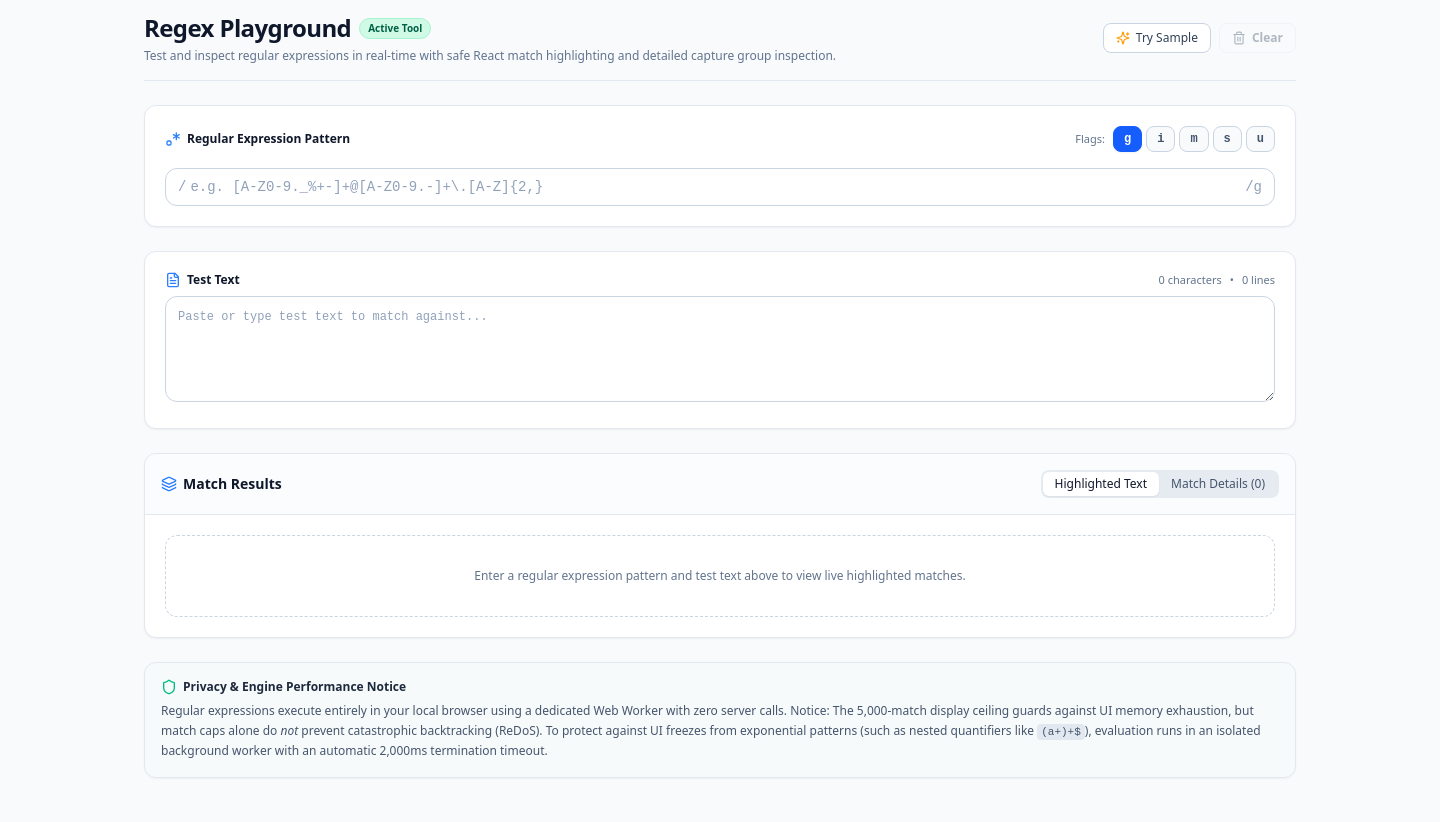
Test: RegexPlayground Component › displays descriptive error when invalid regex pattern is provided and dismisses via Clear Pattern button
The width and height of the screenshot is (1440, 822).
Type "some test text" into the text box with placeholder "Paste or type test text to match against..." at (720, 349), box [165,296,1275,402]
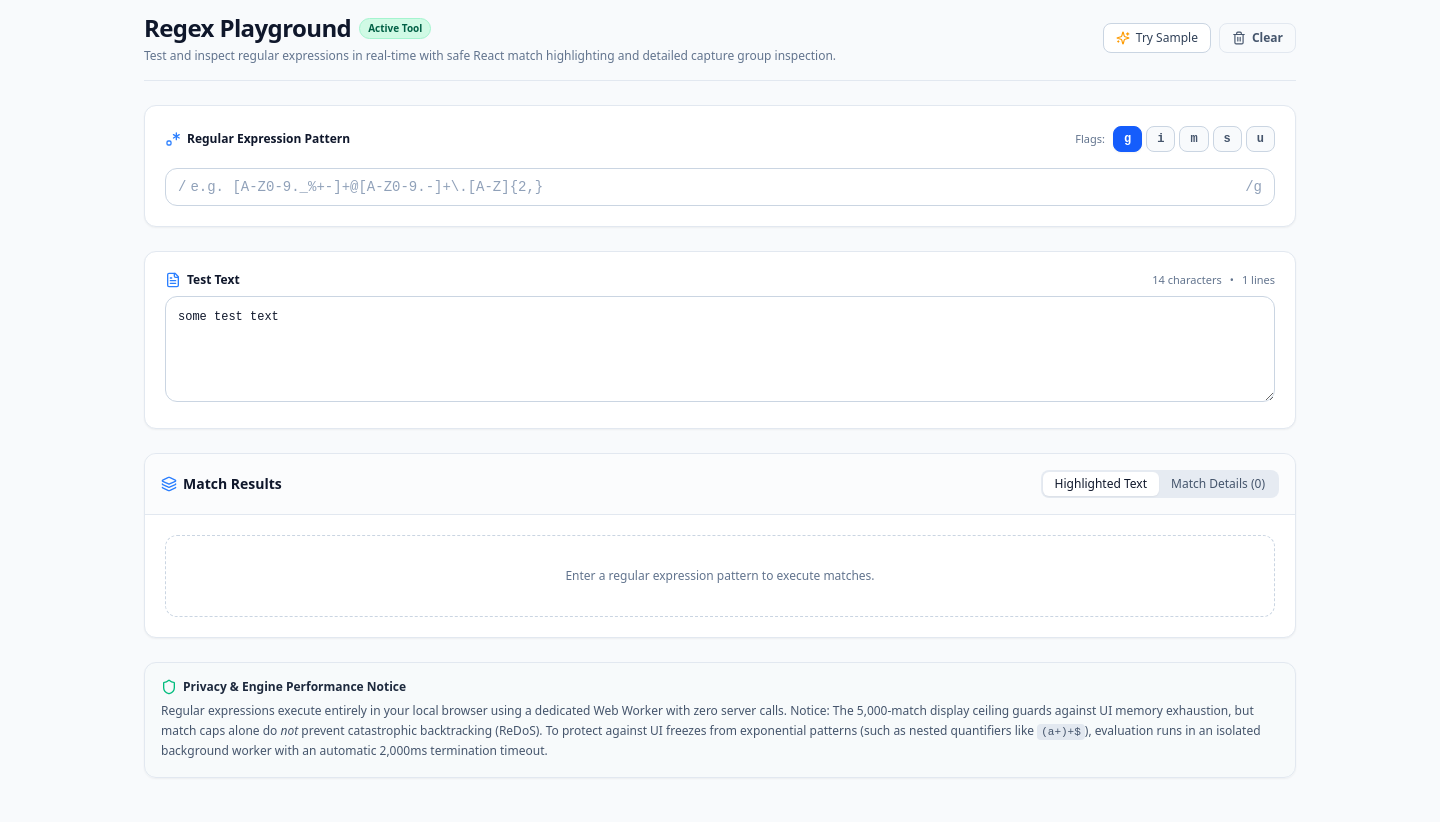
Type "(unclosed-bracket" into the field with placeholder "e.g. [A-Z0-9._%+-]+@[A-Z0-9.-]+\\.[A-Z]{2,}" at (716, 187), box [190,177,1241,197]
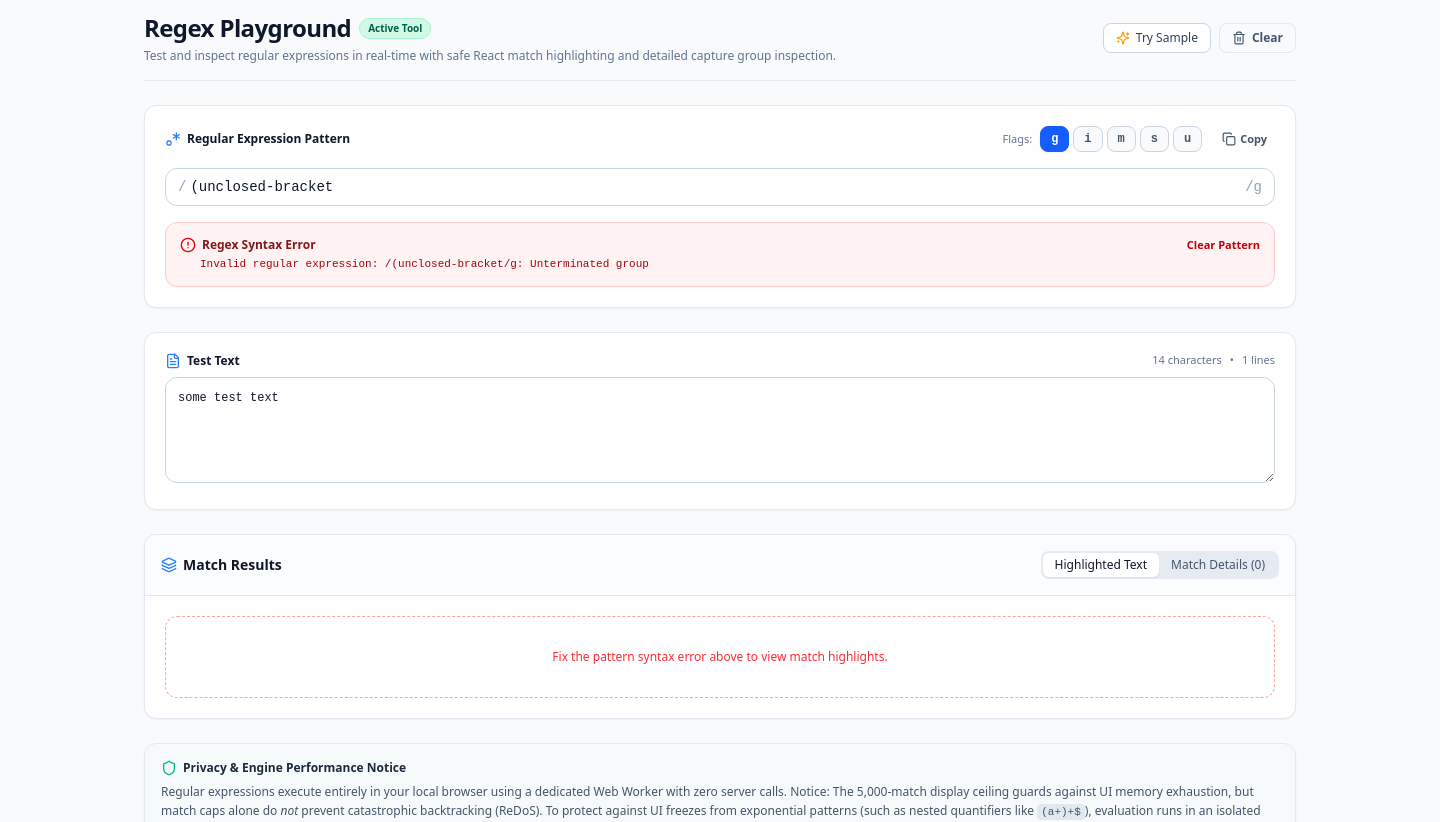
Expected: the message is shown, [165,222,1275,287]
Expected: the text "Regex Syntax Error" is shown, [202,237,316,253]
Expected: the text "Fix the pattern syntax error above to view match highlights." is shown, [552,648,888,665]
// Click "Clear Pattern" inside the error alert
Click the button "Clear Pattern" at (1223, 245), box [1187,238,1260,252]
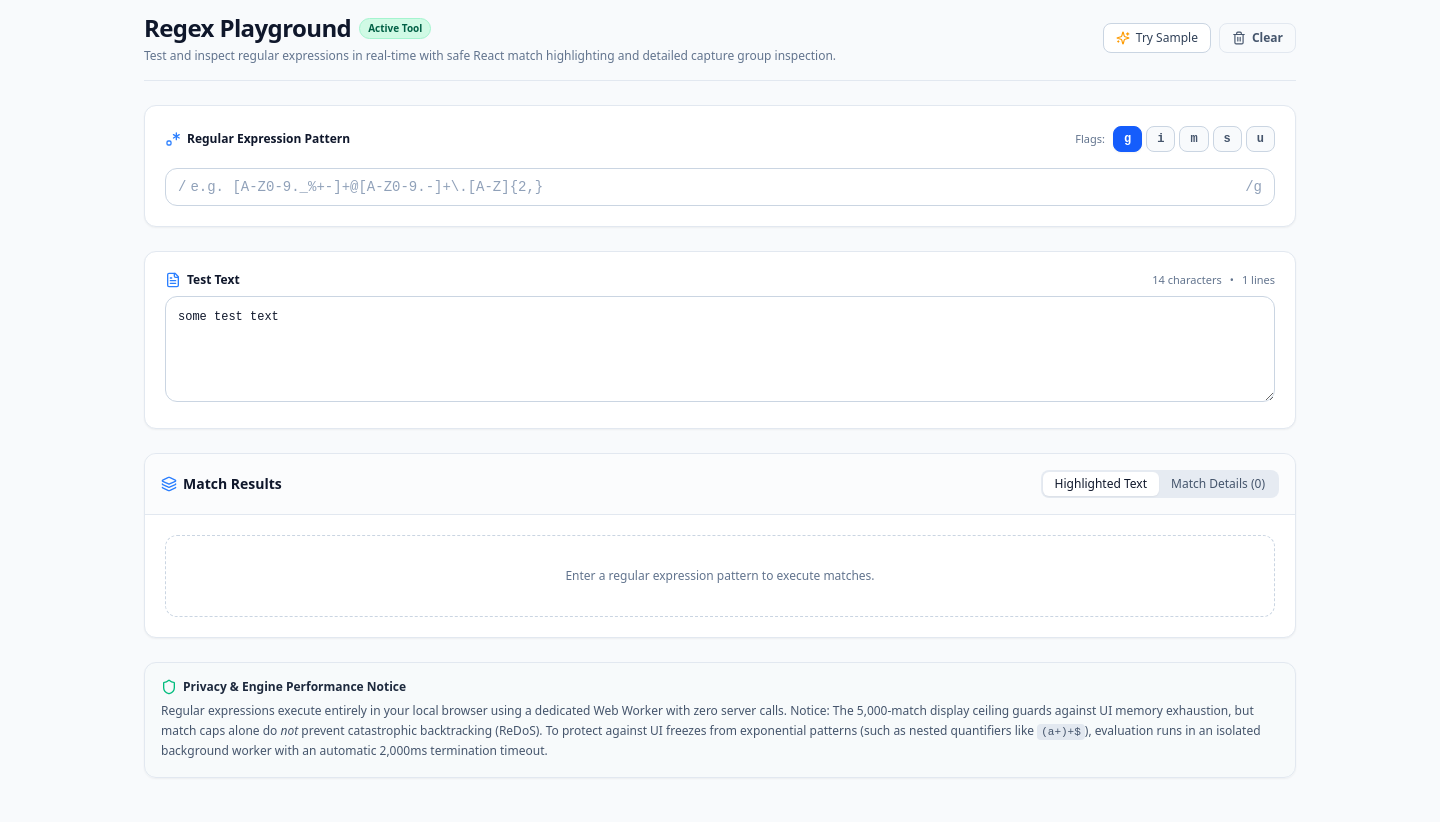
Expected: the field with placeholder "e.g. [A-Z0-9._%+-]+@[A-Z0-9.-]+\\.[A-Z]{2,}" is empty, [190,177,1241,197]
Expected: the message is gone
